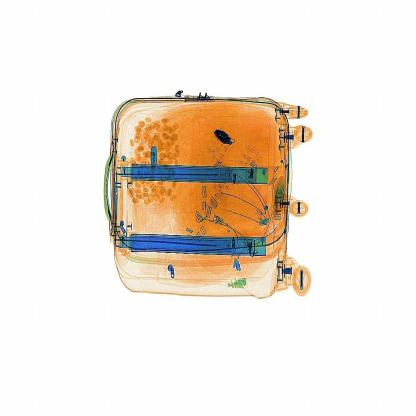scissors: (210, 116, 240, 155)
